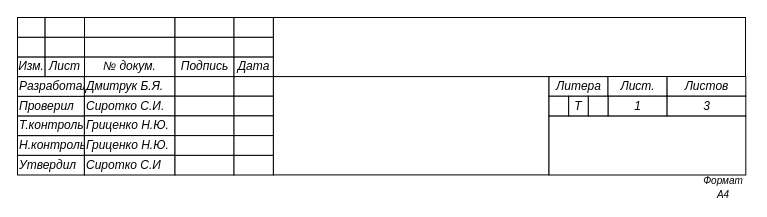
This 767x217 diagram has some shape labels left out. The shapes that lost their labels are listed below. From the top down, each one's centre as x and y in pixels, then its label:
At pixel 509 46: "ГУИР.253504.001 ПЛ".
At pixel 410 125: "Графический интерфейс пользователя. Плакат".
At pixel 647 145: "Кафедра информатики, гр. 253504".
